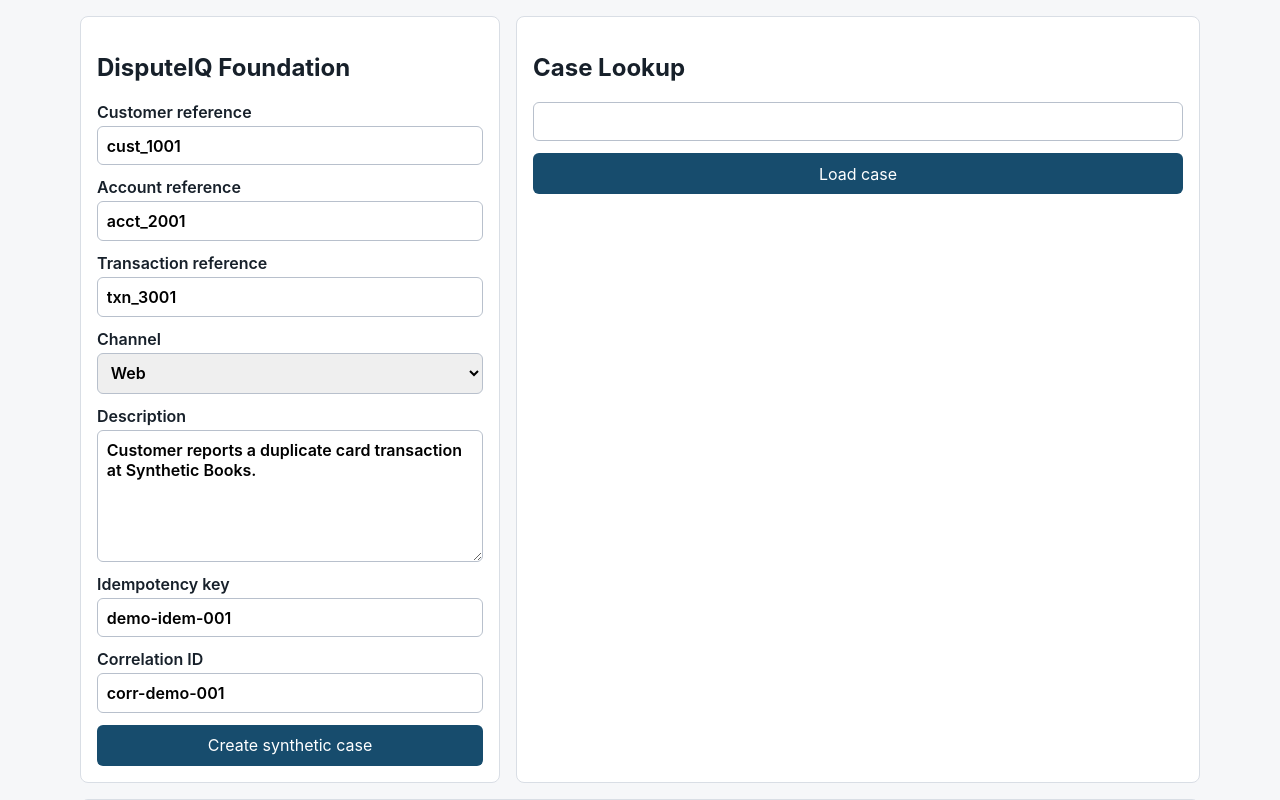
Test: shows a visible error when case creation fails
Click the button "Create synthetic case": {"x": 290, "y": 745} 97,725 -> 483,766
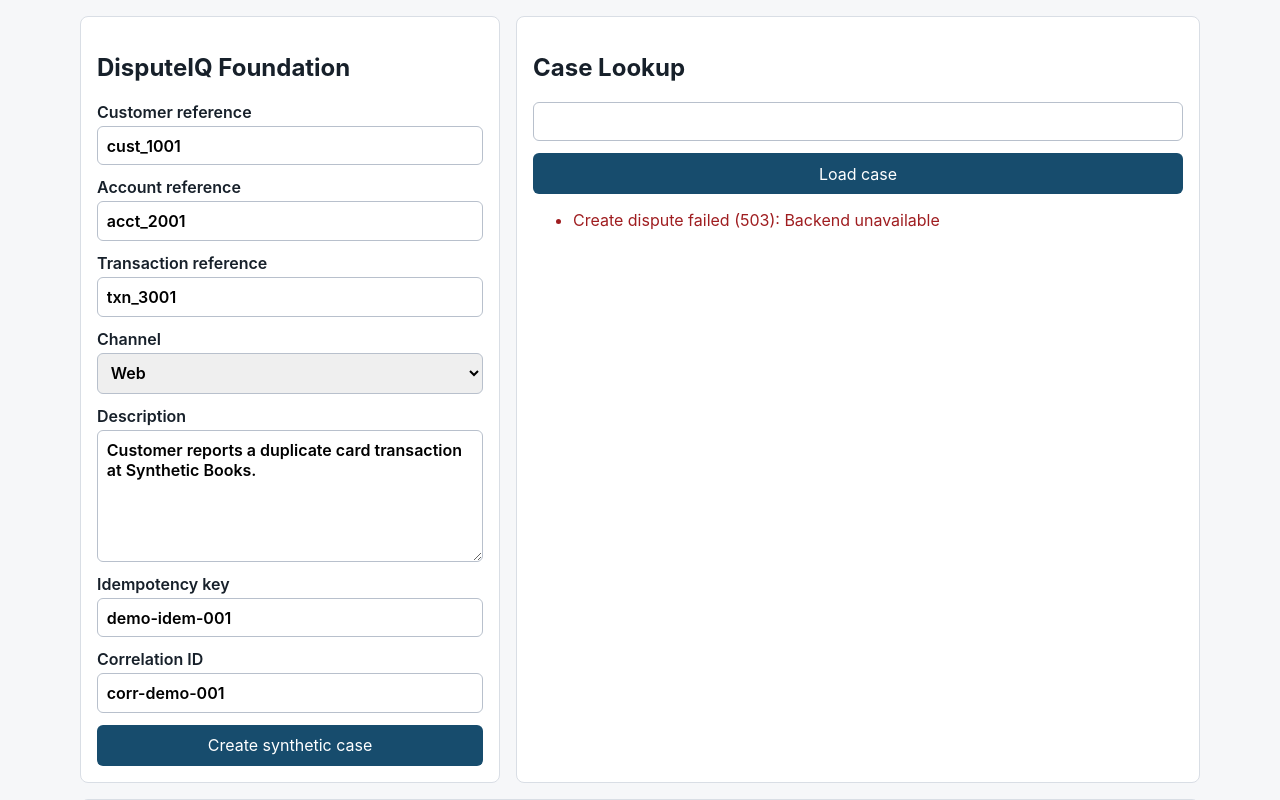
expect the message reads "Create dispute failed (503): Backend unavailable": met, box 573,210 -> 940,230
